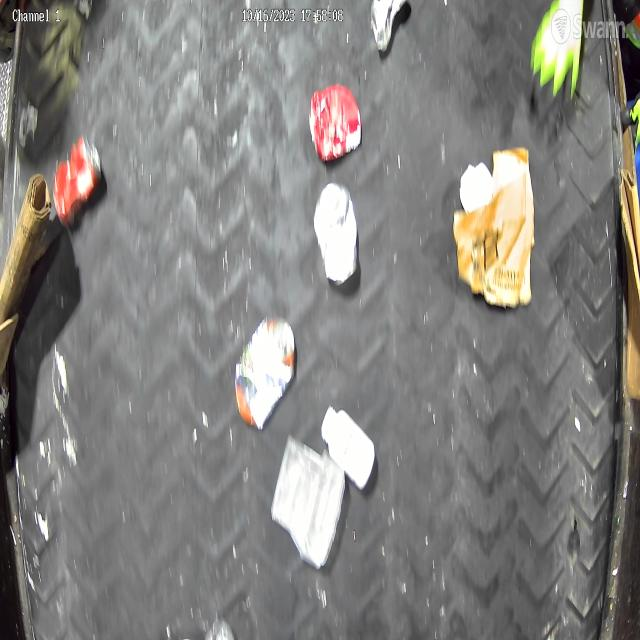can: (234, 314, 296, 431), (52, 135, 102, 229), (314, 182, 359, 286), (309, 83, 362, 162)
